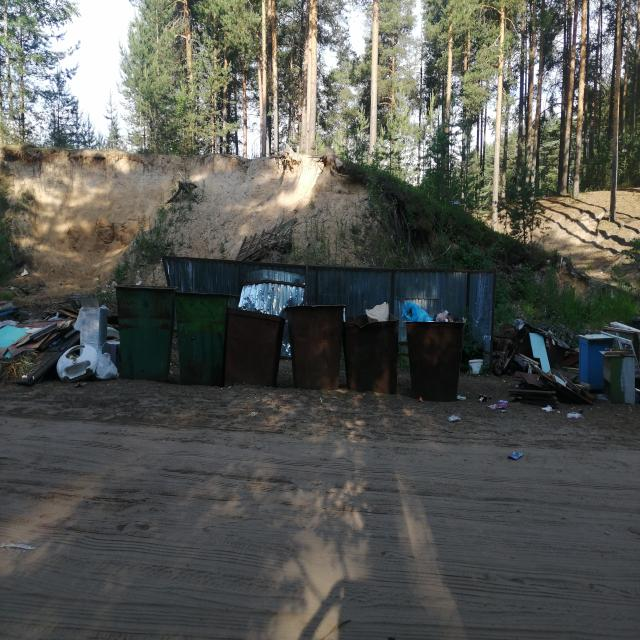bin: (116, 284, 344, 388), (346, 322, 456, 402)
plastic: (470, 310, 640, 416), (0, 288, 123, 389), (399, 298, 467, 324), (362, 299, 392, 324)
